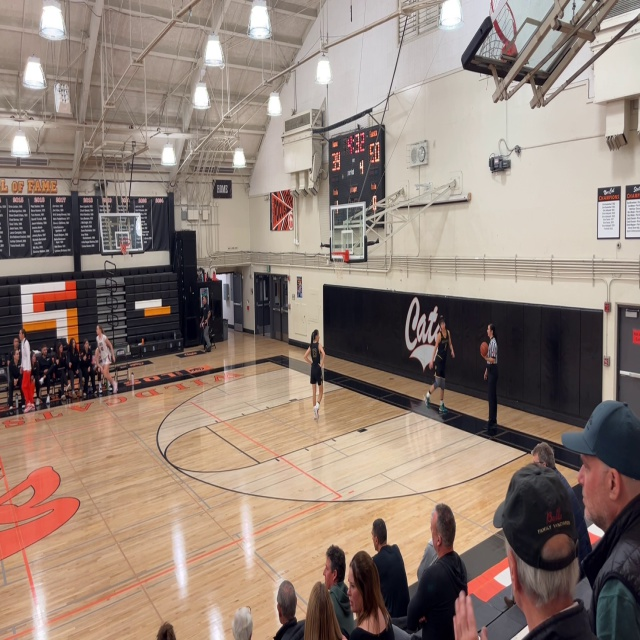Basketball: (479, 342, 489, 359)
